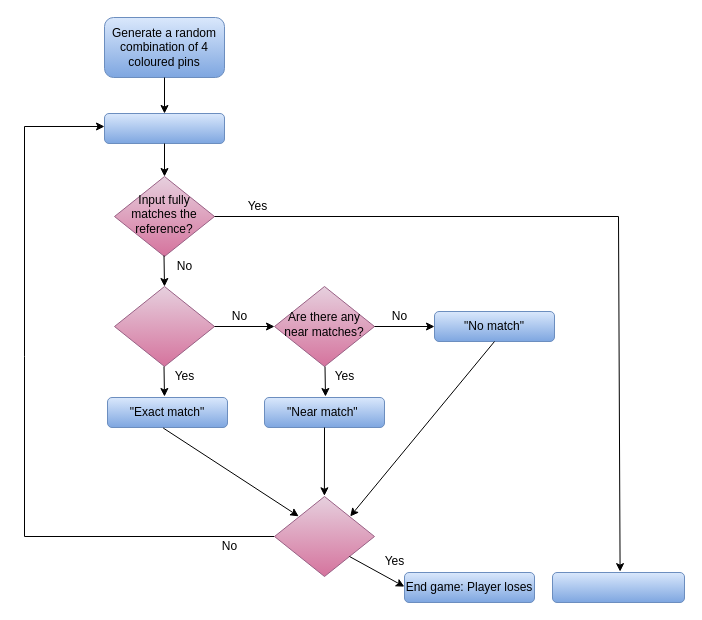
The diagram is 702 pixels wide and 620 high, and some of its shapes have lost their labels. The shapes that lost their labels are listed below. From the top down, each one's centre as x and y in pixels, then its label:
At point 164,128: "Player input: 4 coloured pins".
At point 164,326: "Are there any exact matches?".
At point 324,536: "Max loop count attained?".
At point 618,587: "End game: Player wins".
